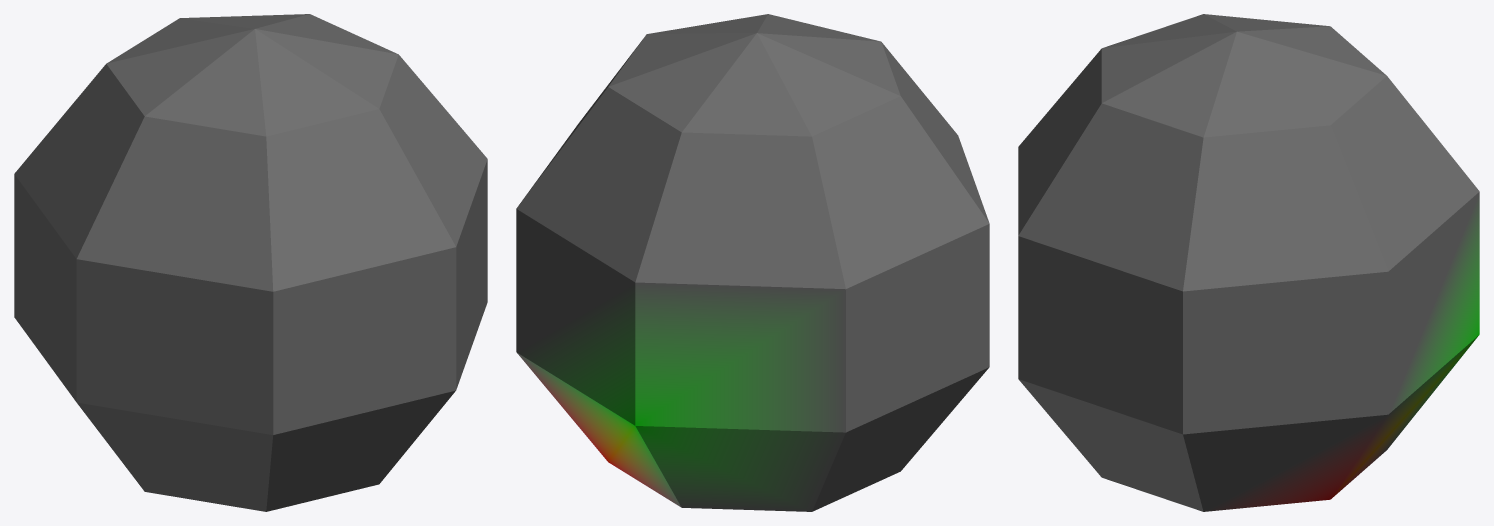
File: re_decimating_conquest_40_before.obj
3 views of the same model, side by side, from view 1: azimuth 30°, elevation 25°; view 2: azimuth 150°, elevation 25°; view 3: azimuth 270°, elevation 25° (orthographic).
Size of the model in its own units: 1.85 by 2 by 1.81.
